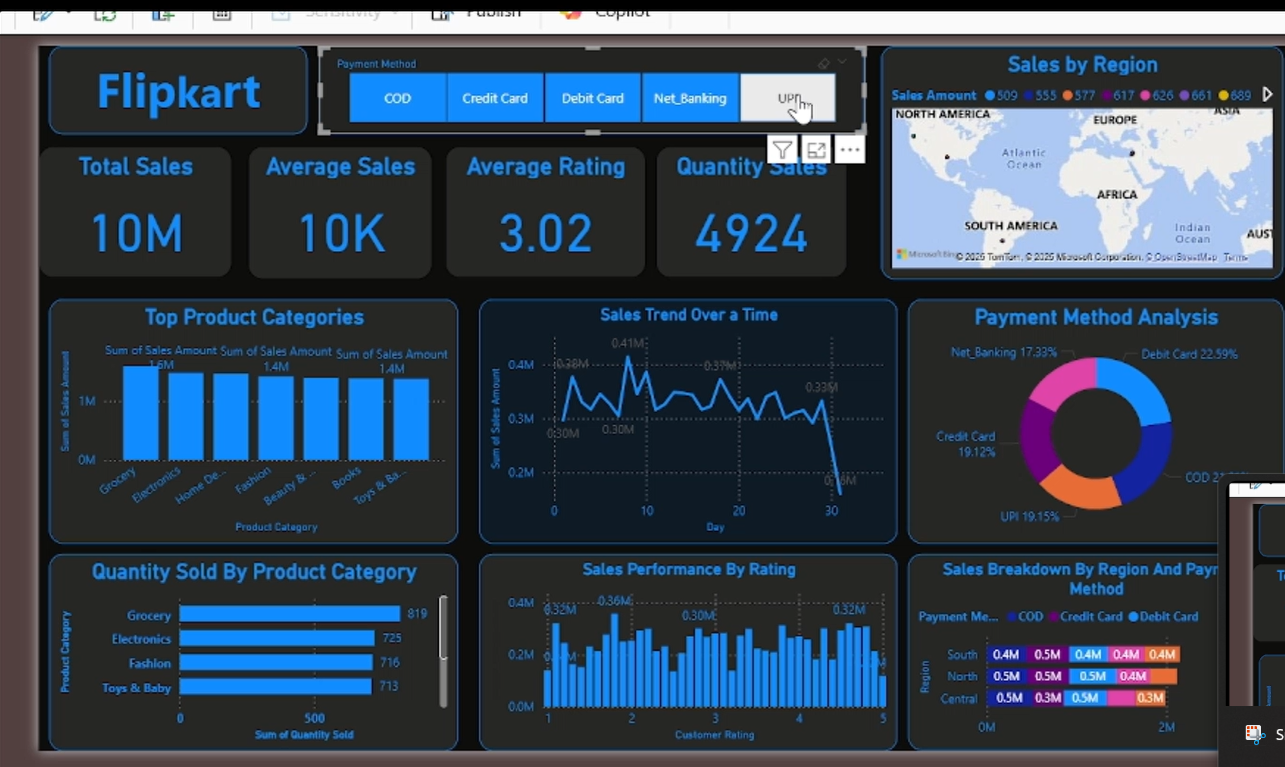

This screenshot's page, from the dashboard's own definition file:
{"tool":"powerbi","page":{"name":"Page 1","canvas":[1280,720],"ordinal":0},"visuals":[{"type":"card","title":"Total Sales","fields":{"Values":["Sum(Sheet1.Sales Amount)"]},"box":[0,102.9,197.6,134.5],"z":0},{"type":"card","title":"Average Sales","fields":{"Values":["Avg(Sheet1.Sales Amount)"]},"box":[214.1,102.9,188,135.8],"z":1000},{"type":"card","title":"Average Rating","fields":{"Values":["Avg(Sheet1.Customer Rating)"]},"box":[414.4,102.9,204.5,134.5],"z":2000},{"type":"card","title":"Quantity Sales","fields":{"Values":["Sum(Sheet1.Quantity Sold)"]},"box":[629.8,102.9,194.9,134.5],"z":3000},{"type":"map","title":"Sales by Region","fields":{"Category":["Sheet1.Region"],"Series":["Sheet1.Sales Amount"]},"box":[860.4,0,410.3,238.8],"z":4000},{"type":"columnChart","title":"Top Product Categories","fields":{"Category":["Sheet1.Product Category"],"Y":["Sum(Sheet1.Sales Amount)"]},"box":[11,259.3,417.2,249.7],"z":5000},{"type":"lineChart","title":"Sales Trend Over a Time","fields":{"Category":["Sheet1.Order Date.Variation.Date Hierarchy.Year","Sheet1.Order Date.Variation.Date Hierarchy.Quarter","Sheet1.Order Date.Variation.Date Hierarchy.Month","Sheet1.Order Date.Variation.Date Hierarchy.Day"],"Y":["Sum(Sheet1.Sales Amount)"]},"box":[450.1,259.3,426.8,249.7],"z":6000},{"type":"donutChart","title":"Payment Method Analysis","fields":{"Category":["Sheet1.Payment Method"],"Y":["Sum(Sheet1.Sales Amount)"]},"box":[887.8,259.3,382.8,249.7],"z":7000},{"type":"clusteredBarChart","title":"Quantity Sold By Product Category","fields":{"Category":["Sheet1.Product Category"],"Y":["Sum(Sheet1.Quantity Sold)"]},"box":[11,518.7,417.2,201.7],"z":8000},{"type":"clusteredColumnChart","title":"Sales Performance By Rating","fields":{"Category":["Sheet1.Customer Rating"],"Y":["Sum(Sheet1.Sales Amount)"]},"box":[450.1,518.7,426.8,201.7],"z":9000},{"type":"barChart","title":"Sales Breakdown By Region And Payment Method","fields":{"Category":["Sheet1.Region"],"Y":["Sum(Sheet1.Sales Amount)"],"Series":["Sheet1.Payment Method"]},"box":[888,519,383,201],"z":10000},{"type":"slicer","fields":{"Values":["Sheet1.Payment Method"]},"box":[286.8,0,557.1,90.6],"z":11000},{"type":"textbox","box":[11,0,263.5,90.6],"z":12000}]}

Visuals, with their boxes on the page's 1280x720 design canvas (x1, y1, x2, y2). These are canvas units, not pixel positions in the 1285x767 screenshot, which may show the page scaled, cropped or inside an application window:
"Total Sales" card: (0,103,198,237)
"Average Sales" card: (214,103,402,239)
"Average Rating" card: (414,103,619,237)
"Quantity Sales" card: (630,103,825,237)
"Sales by Region" map: (860,0,1271,239)
"Top Product Categories" columnChart: (11,259,428,509)
"Sales Trend Over a Time" lineChart: (450,259,877,509)
"Payment Method Analysis" donutChart: (888,259,1271,509)
"Quantity Sold By Product Category" clusteredBarChart: (11,519,428,720)
"Sales Performance By Rating" clusteredColumnChart: (450,519,877,720)
"Sales Breakdown By Region And Payment Method" barChart: (888,519,1271,720)
slicer - Sheet1.Payment Method: (287,0,844,91)
textbox: (11,0,274,91)
